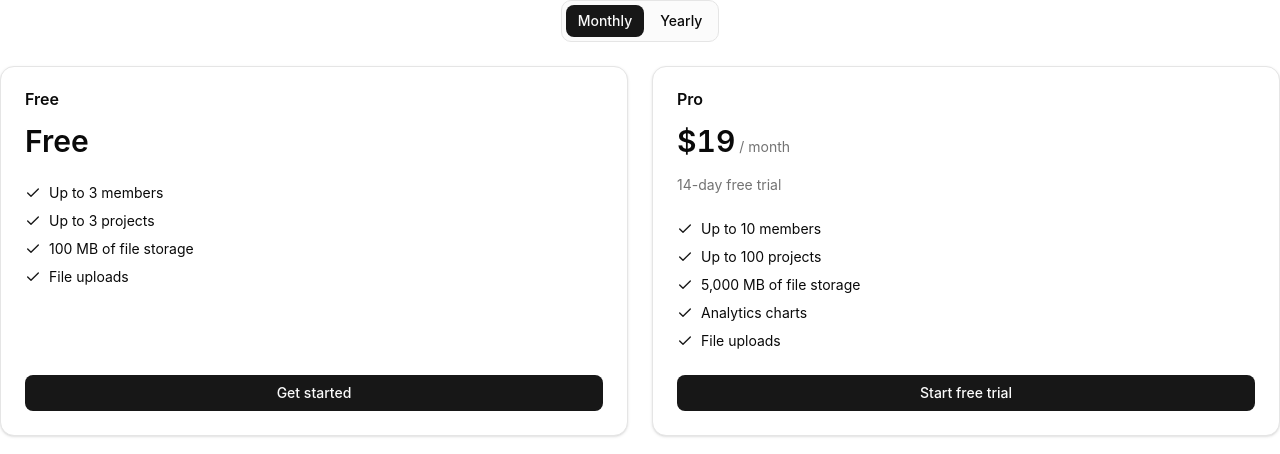
Test: PricingPlans › disables a plan that is not available for the chosen interval
This screenshot has width=1280, height=454.
Expected: the text "Pro" is shown, [677,91,703,107]
Click the button "Yearly" at (681, 21), box [648,5,714,37]
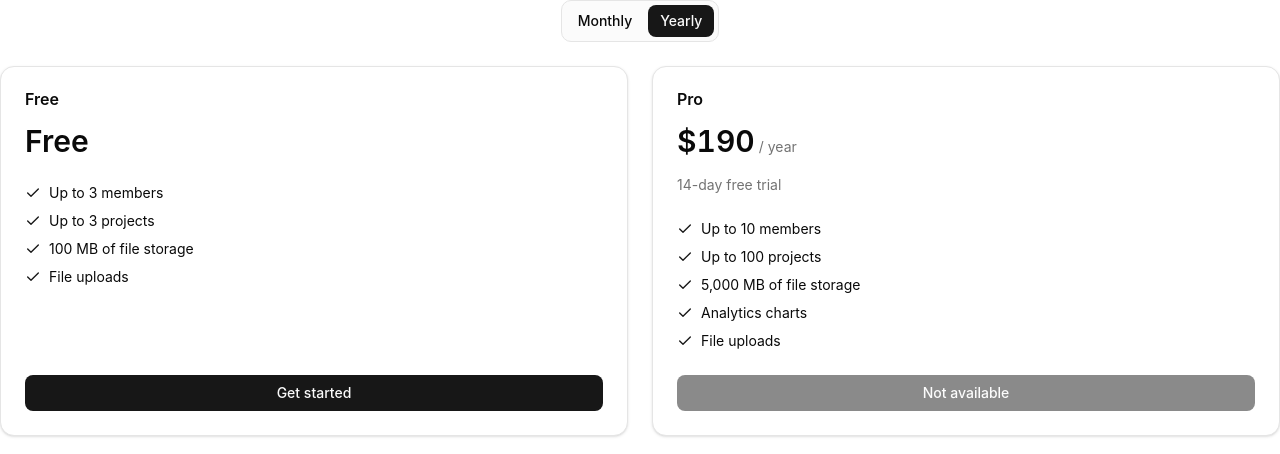
Result: the text "$190" is shown at [677,123,755,159]
Result: the button "Not available" is disabled at [677,375,1255,411]
